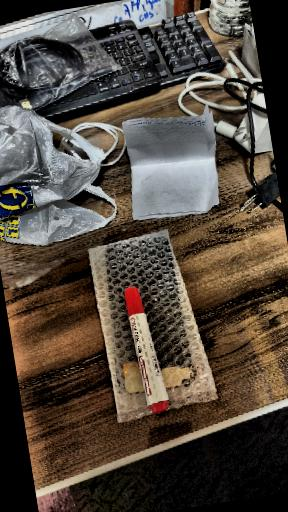marcador rojo: (125, 287, 169, 413)
